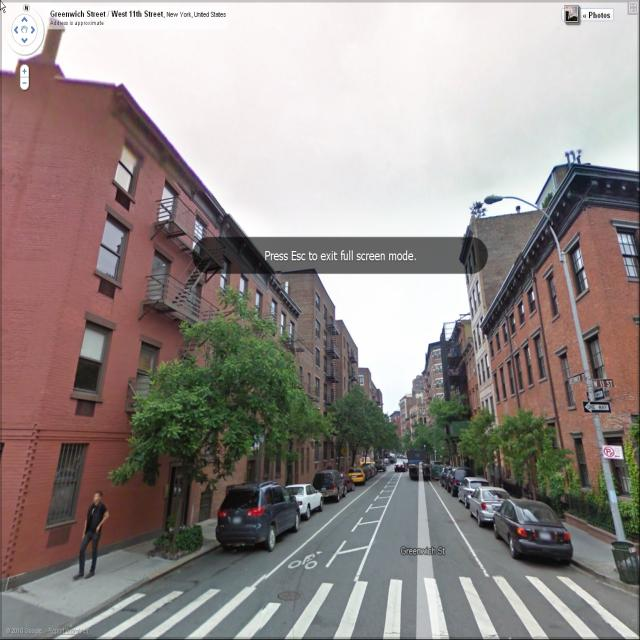b_1: (493, 180, 640, 429), (470, 216, 502, 434)
b_2: (1, 54, 210, 589), (496, 173, 640, 494), (210, 197, 294, 526), (289, 255, 335, 501), (419, 328, 492, 477), (331, 307, 369, 463)
